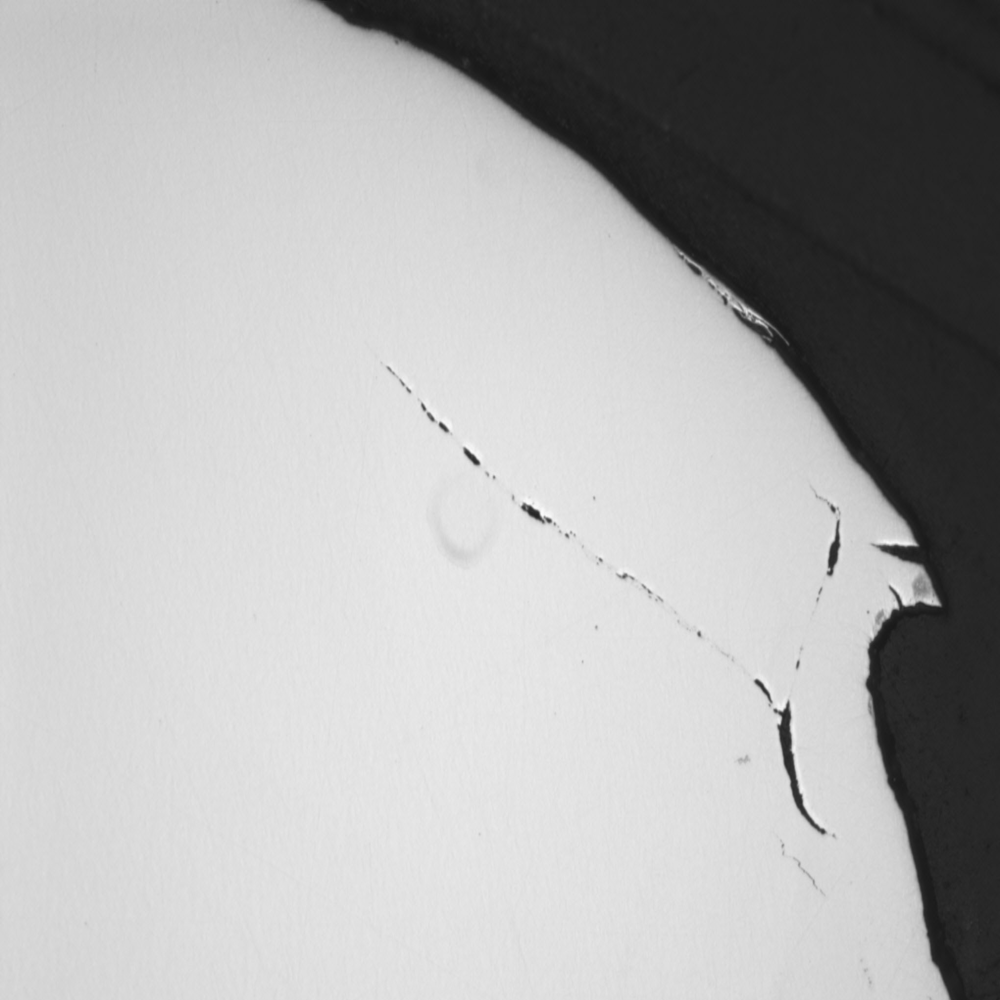crack: (337, 310, 860, 858)
